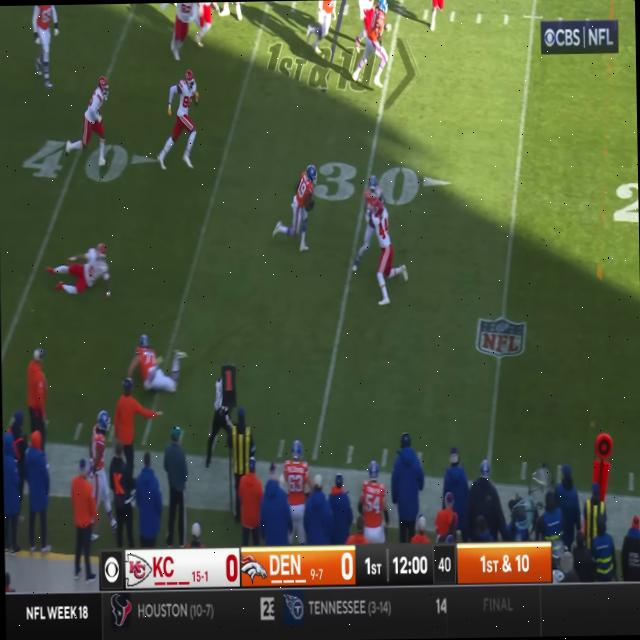Player: (52, 238, 110, 302), (163, 70, 199, 172), (74, 78, 110, 168), (132, 332, 180, 398), (282, 164, 318, 252), (365, 0, 391, 88), (32, 5, 58, 90), (374, 200, 392, 306)
